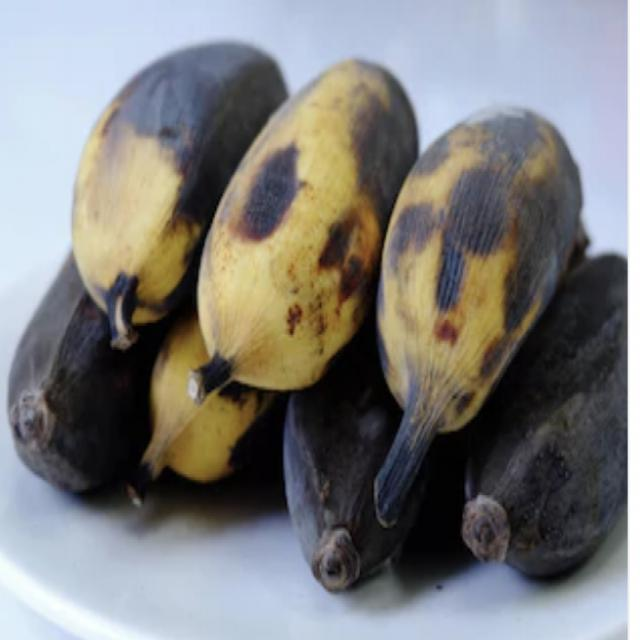rotten-banana: (200, 37, 422, 381), (385, 89, 577, 418), (463, 238, 628, 593), (65, 22, 284, 287), (0, 250, 142, 533), (278, 338, 407, 599)
